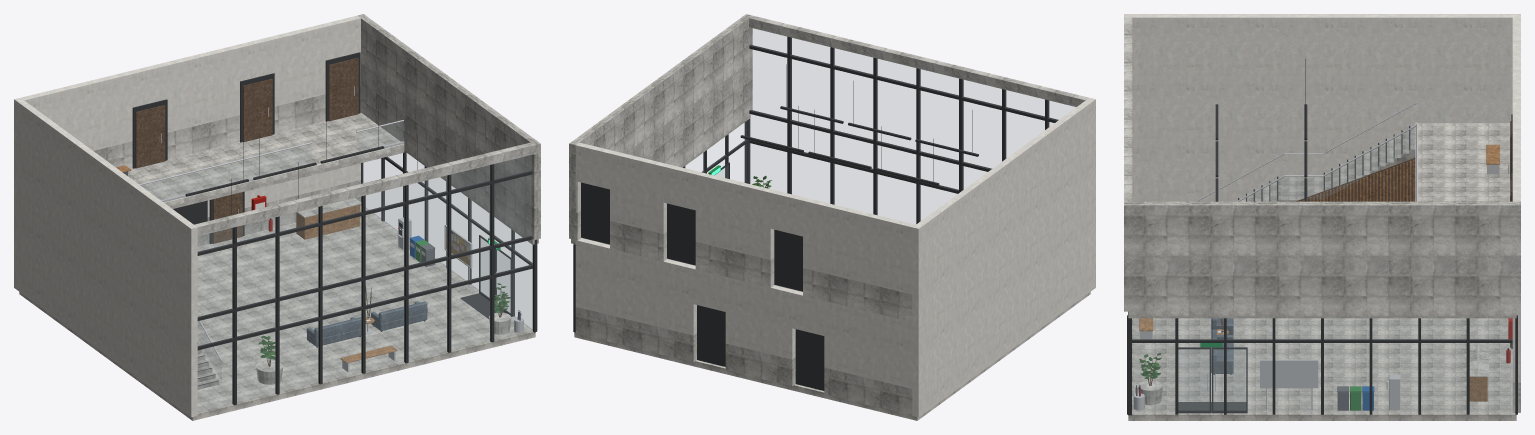
Rendered from linze_interior.glb.
3 views of the same model, side by side, from view 1: azimuth 30°, elevation 25°; view 2: azimuth 150°, elevation 25°; view 3: azimuth 270°, elevation 25° (orthographic). The views are drawn at different scales.
Visible parts, largest first — view 1: L0_glass, L0_floor, L1_WALL_W, L0_WALL_W, L1_WALL_E, L0_WALL_Sfacade_frame, L1_floor, L0_granite_panel, L1_WALL_Nu_0, L1_WALL_Nu_1, L1_WALL_Ndoor_wood_dark, L1_glass (+21 smaller); view 2: L0_glass, L1_WALL_W, L0_WALL_W, L1_WALL_E, L0_WALL_Nu_2, L1_WALL_Nu_0, L0_WALL_Sfacade_frame, L0_WALL_Nu_0, L1_WALL_Nu_1, L0_granite_panel, L1_WALL_Ndoor_frame, L0_WALL_Nu_1 (+16 smaller); view 3: L1_WALL_E, L1_WALL_W, L0_glass, L0_floor, L0_WALL_W, L1_floor, L0_granite_panel, L0_WALL_Efacade_frame, L0_granite_step, L0_wood_dark, L0_wood, L0_WALL_Efacade_steel (+8 smaller).
Part boxes in pixels (x1=…): L0_glass: x1=198, y1=153, x2=532, y2=412; L0_floor: x1=19, y1=206, x2=535, y2=420; L1_WALL_W: x1=14, y1=98, x2=197, y2=323; L0_WALL_W: x1=14, y1=194, x2=197, y2=417; L1_WALL_E: x1=357, y1=14, x2=540, y2=239; L0_WALL_Sfacade_frame: x1=197, y1=164, x2=537, y2=405; L1_floor: x1=129, y1=113, x2=400, y2=200; L0_granite_panel: x1=194, y1=142, x2=538, y2=384; L1_WALL_Nu_0: x1=21, y1=71, x2=133, y2=150; L1_WALL_Nu_1: x1=162, y1=45, x2=240, y2=132; L1_WALL_Ndoor_wood_dark: x1=135, y1=58, x2=358, y2=168; L1_glass: x1=142, y1=122, x2=402, y2=199; L0_glass: x1=686, y1=28, x2=1075, y2=223; L1_WALL_W: x1=912, y1=98, x2=1095, y2=323; L0_WALL_W: x1=912, y1=194, x2=1095, y2=417; L1_WALL_E: x1=569, y1=14, x2=752, y2=239; L0_WALL_Nu_2: x1=575, y1=238, x2=696, y2=335; L1_WALL_Nu_0: x1=803, y1=198, x2=915, y2=294; L0_WALL_Sfacade_frame: x1=744, y1=36, x2=1058, y2=223; L0_WALL_Nu_0: x1=824, y1=301, x2=912, y2=388; L1_WALL_Nu_1: x1=695, y1=172, x2=774, y2=259; L0_granite_panel: x1=571, y1=15, x2=1088, y2=244; L1_WALL_Ndoor_frame: x1=581, y1=182, x2=802, y2=291; L0_WALL_Nu_1: x1=725, y1=277, x2=795, y2=359; L1_WALL_E: x1=1124, y1=201, x2=1520, y2=311; L1_WALL_W: x1=1124, y1=14, x2=1520, y2=123; L0_glass: x1=1132, y1=127, x2=1514, y2=413; L0_floor: x1=1128, y1=318, x2=1516, y2=420; L0_WALL_W: x1=1132, y1=124, x2=1415, y2=201; L1_floor: x1=1417, y1=123, x2=1509, y2=201; L0_granite_panel: x1=1124, y1=17, x2=1516, y2=405; L0_WALL_Efacade_frame: x1=1127, y1=315, x2=1517, y2=414; L0_granite_step: x1=1239, y1=126, x2=1415, y2=201; L0_wood_dark: x1=1295, y1=158, x2=1415, y2=201; L0_wood: x1=1139, y1=159, x2=1487, y2=401; L0_WALL_Efacade_steel: x1=1207, y1=359, x2=1318, y2=413.
Bounding box in the file's own units: 16.3 × 8.65 × 14.3.
22 materials, 9 textured.
